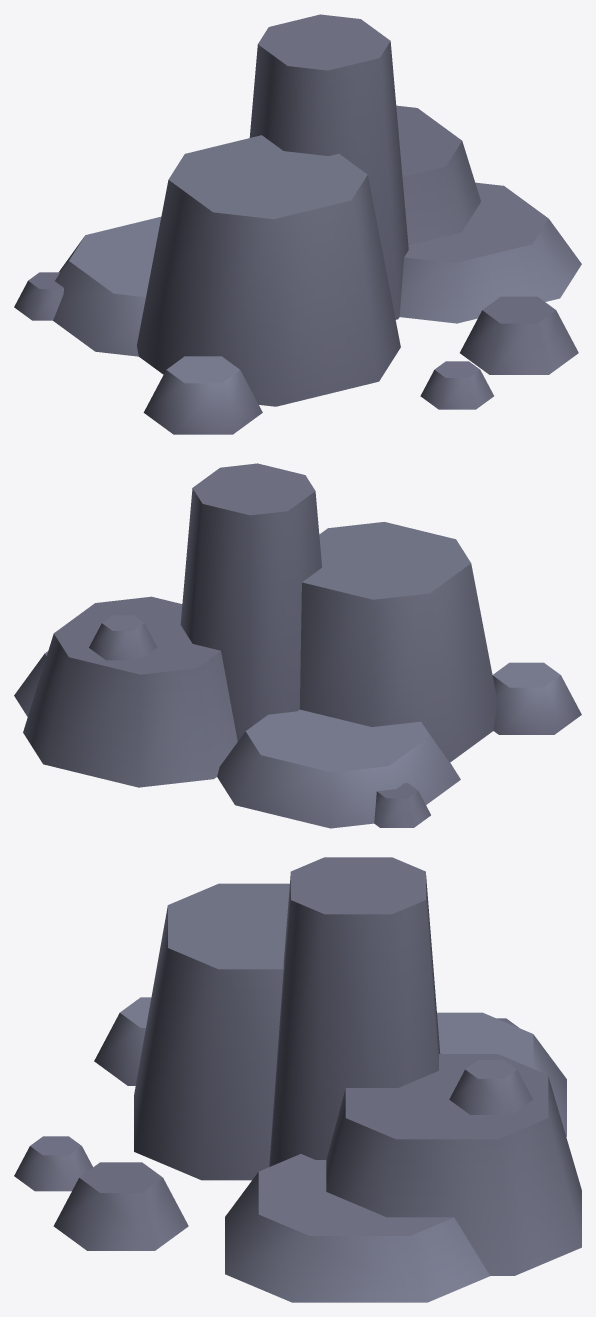
Rendered from stones.obj.
3 renders of one model, top to bottom at view 1: azimuth 30°, elevation 25°; view 2: azimuth 150°, elevation 25°; view 3: azimuth 270°, elevation 25°, orthographic. The views are drawn at different scales.
Visible parts, largest first — view 1: stones; view 2: stones; view 3: stones.
Part boxes in pixels (bbox=[...]): stones: bbox=[14, 14, 581, 434]; stones: bbox=[14, 463, 581, 828]; stones: bbox=[14, 857, 581, 1302].
Size of the model in its own units: 0.8924 by 0.4539 by 0.8045.
Materials: 1 (1 with a texture image).
